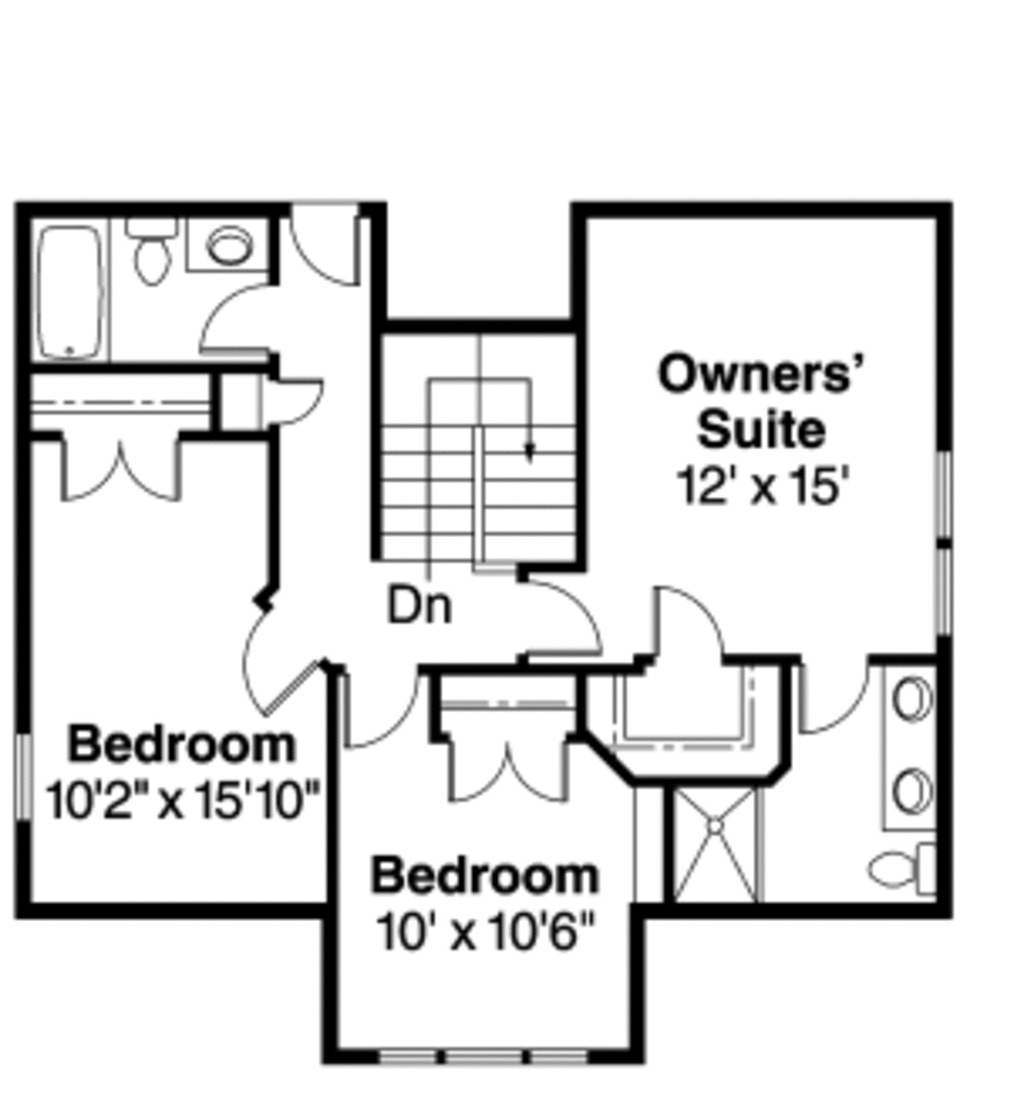door: (509, 560, 616, 667), (438, 731, 577, 812), (244, 606, 327, 723), (282, 197, 380, 294), (639, 582, 741, 667), (61, 436, 180, 507), (787, 656, 880, 736), (334, 668, 412, 761), (199, 282, 285, 353), (266, 372, 333, 431)
large_sink: (853, 838, 958, 897), (114, 209, 185, 292)
small_sink: (880, 653, 944, 831), (185, 216, 266, 272)
stairs: (378, 319, 592, 567)
tub: (27, 212, 116, 365)
window: (931, 448, 960, 645), (2, 726, 44, 831), (377, 1043, 585, 1061)
